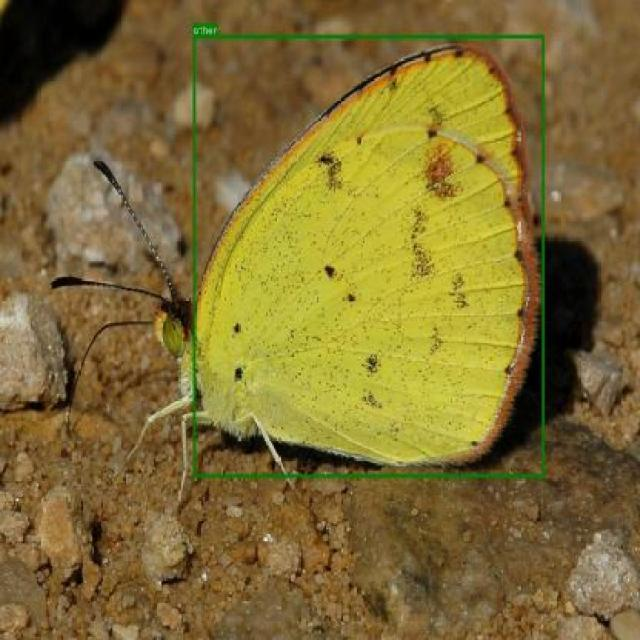other: (192, 34, 545, 477)
